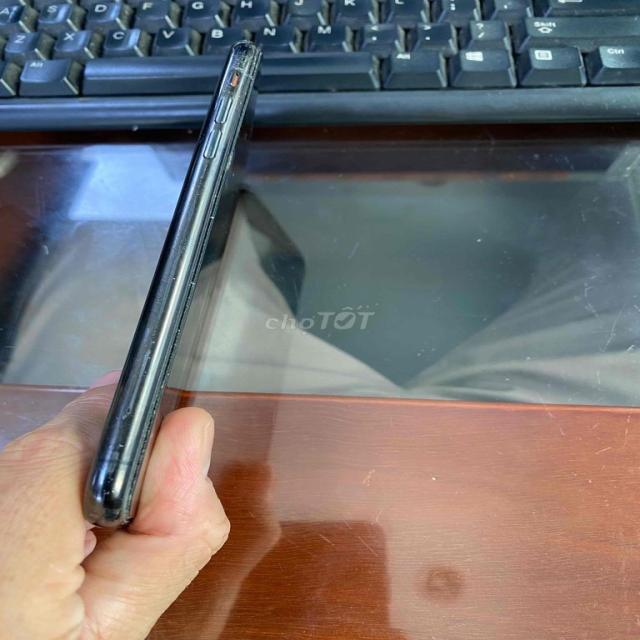gen_11: (85, 31, 264, 528)
scratch: (104, 332, 156, 513), (225, 34, 260, 87), (207, 139, 239, 175), (173, 255, 197, 287), (193, 194, 217, 222)
